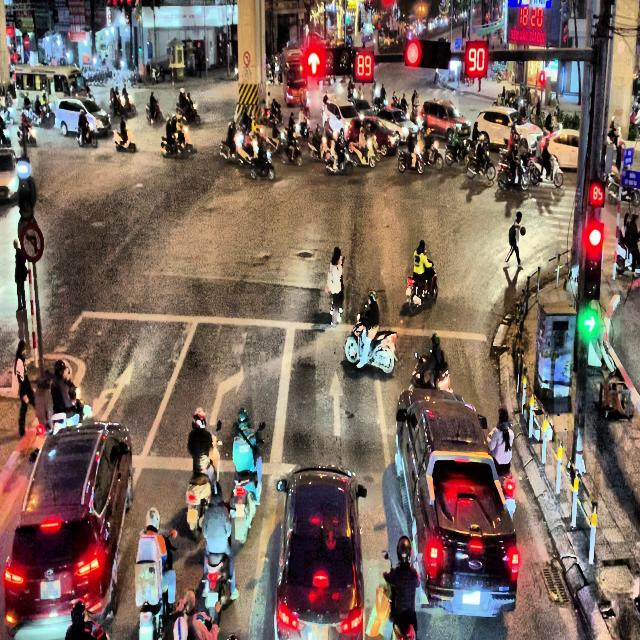lisence_plate: (38, 577, 62, 601), (310, 622, 329, 638), (462, 592, 483, 606)
